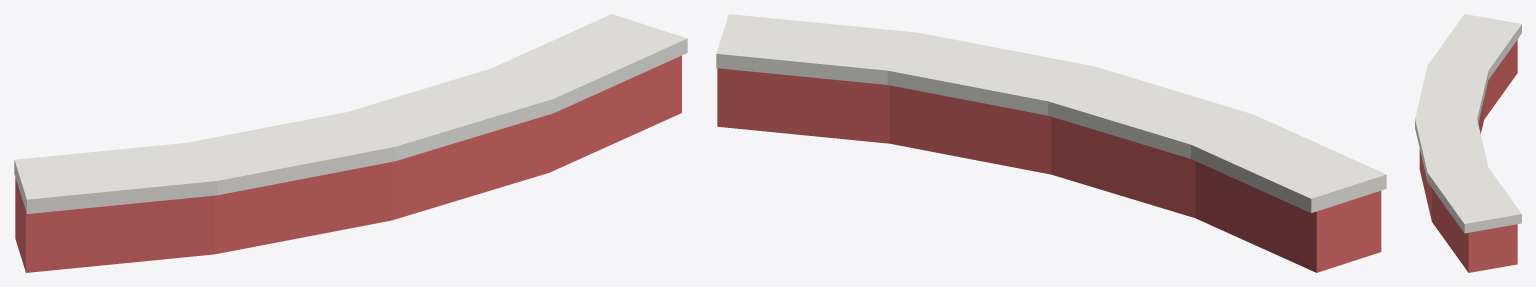
The model's file is travelling-circus-and-big-top-ring-kerb-segment-28628bbf__36232.glb.
3 views of the same model, side by side, from view 1: azimuth 30°, elevation 25°; view 2: azimuth 150°, elevation 25°; view 3: azimuth 270°, elevation 25° (orthographic). The views are drawn at different scales.
Visible parts, largest first — view 1: ring-kerb-segment-canvas, ring-kerb-segment-stripe; view 2: ring-kerb-segment-canvas, ring-kerb-segment-stripe; view 3: ring-kerb-segment-canvas, ring-kerb-segment-stripe.
Boxes of the visible parts, box(x1,y1,x2,y2) form: ring-kerb-segment-canvas: box(14, 14, 687, 213); ring-kerb-segment-stripe: box(15, 55, 681, 272); ring-kerb-segment-canvas: box(716, 14, 1386, 213); ring-kerb-segment-stripe: box(717, 68, 1381, 272); ring-kerb-segment-canvas: box(1415, 14, 1521, 233); ring-kerb-segment-stripe: box(1419, 40, 1517, 272).
Bounding box in the file's own units: 3.36 × 0.37 × 0.7223.
